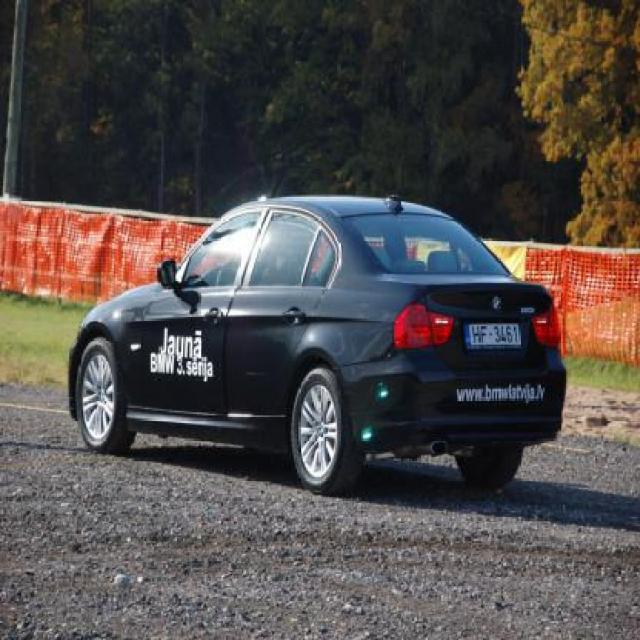License-Plates: (464, 324, 522, 350)
